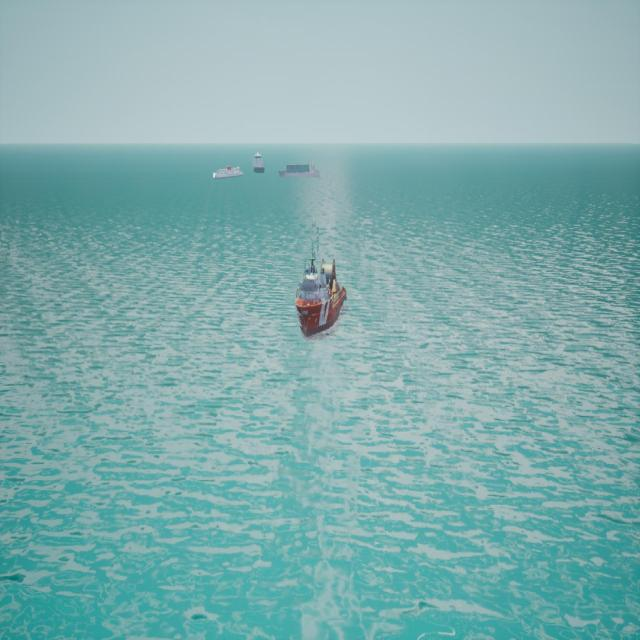tug boat: (295, 225, 346, 341)
